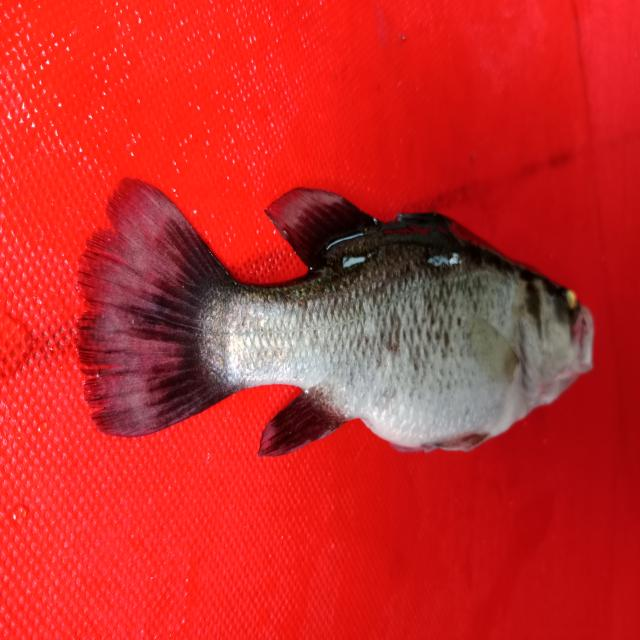ikan: (60, 148, 604, 479)
